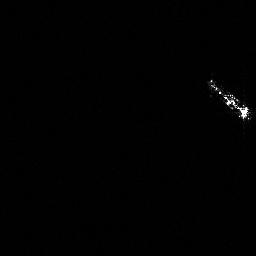ship: (204, 75, 255, 124)
